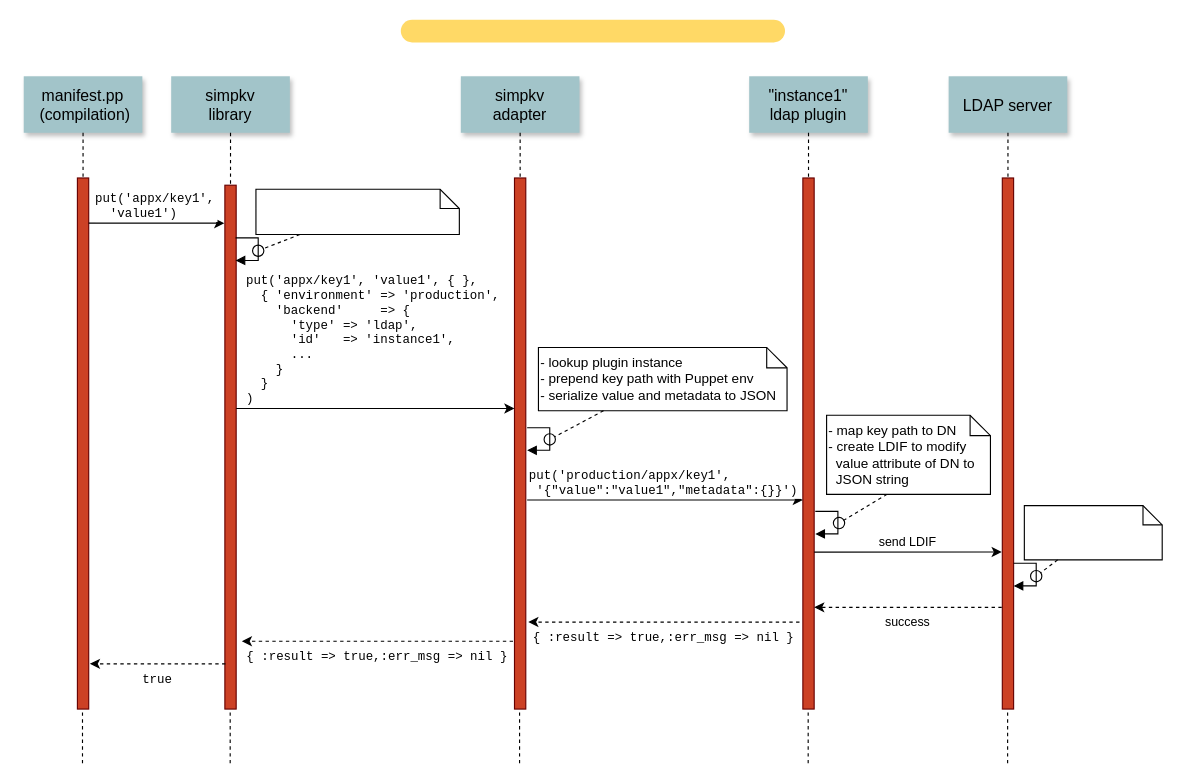
Image size: 1182x784. Some labels were removed from this diagram. Each missing label, with the centre of its shape:
lookup backend options and Puppet env: pixel 357 211
set value attribute of DN to JSON string: pixel 1092 532
simpkv Store Operation for Non-global Key: pixel 592 30
